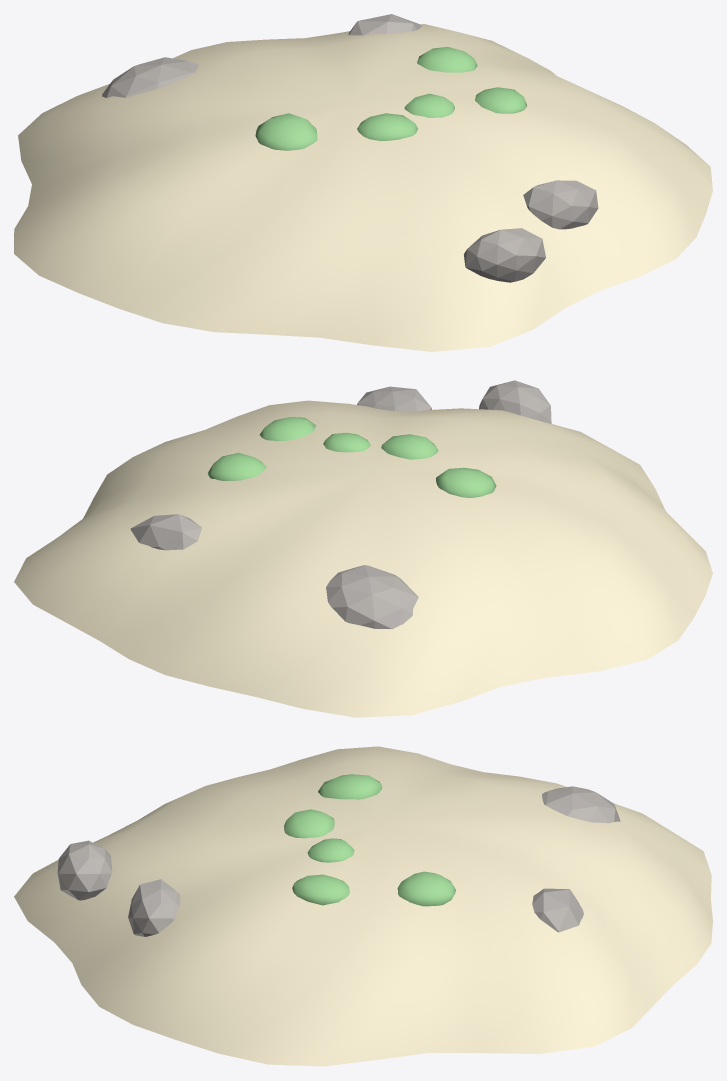
File: BumperIslet.glb
3 views of the same model, one above another, from view 1: azimuth 30°, elevation 25°; view 2: azimuth 150°, elevation 25°; view 3: azimuth 270°, elevation 25° (orthographic). The views are drawn at different scales.
Visible parts, largest first — view 1: Sand, Rock, Grass; view 2: Sand, Rock, Grass; view 3: Sand, Rock, Grass.
Boxes of the visible parts, <box> form: Sand: <box>14,24,712,351</box>; Rock: <box>102,14,598,282</box>; Grass: <box>255,46,526,150</box>; Sand: <box>14,400,712,717</box>; Rock: <box>130,380,551,629</box>; Grass: <box>208,417,496,497</box>; Sand: <box>14,746,712,1066</box>; Rock: <box>57,786,620,936</box>; Grass: <box>284,774,455,906</box>.
Bounding box in the file's own units: 21.49 × 3.57 × 21.42.
